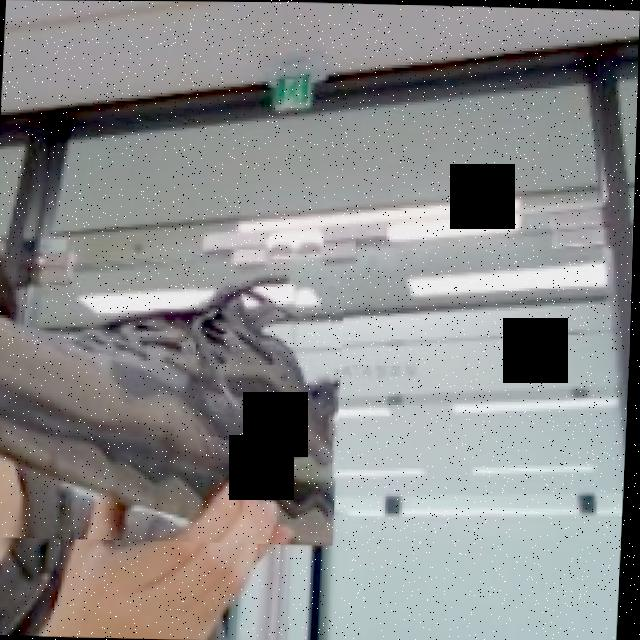shoe: (0, 262, 347, 544)
